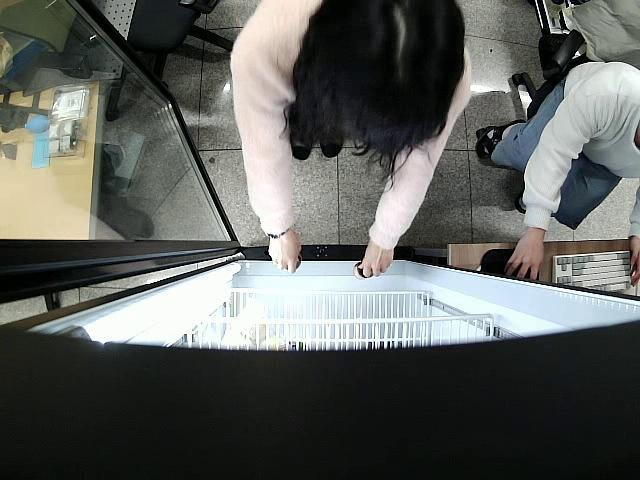17_vita500: (352, 262, 377, 282)
